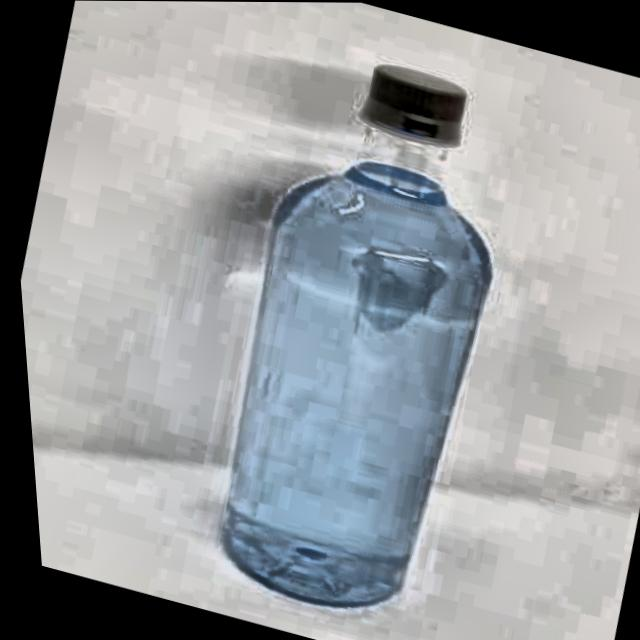Bottles: (139, 28, 568, 640)
